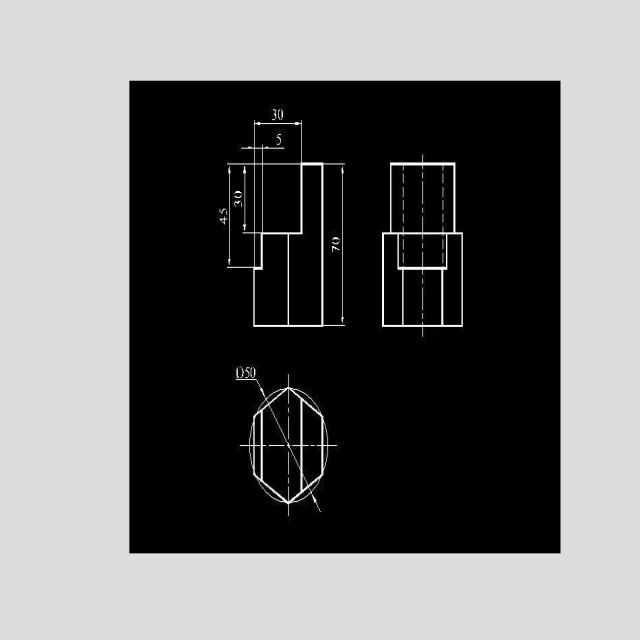marking_line: (324, 162, 346, 327), (223, 163, 254, 272), (252, 120, 304, 164), (241, 161, 261, 237)
numeric: (233, 187, 244, 200), (235, 366, 245, 379), (331, 235, 340, 245), (250, 367, 257, 379), (219, 216, 228, 225), (272, 108, 278, 121), (276, 132, 281, 147), (278, 109, 284, 121), (233, 201, 243, 208), (244, 367, 250, 378), (220, 208, 228, 215), (331, 246, 340, 252)
